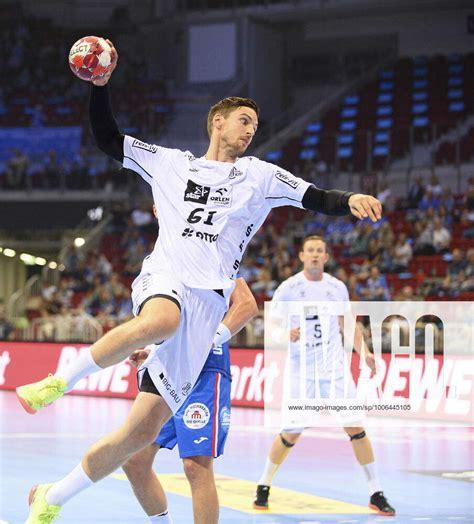ballon_handball: (68, 34, 114, 82)
